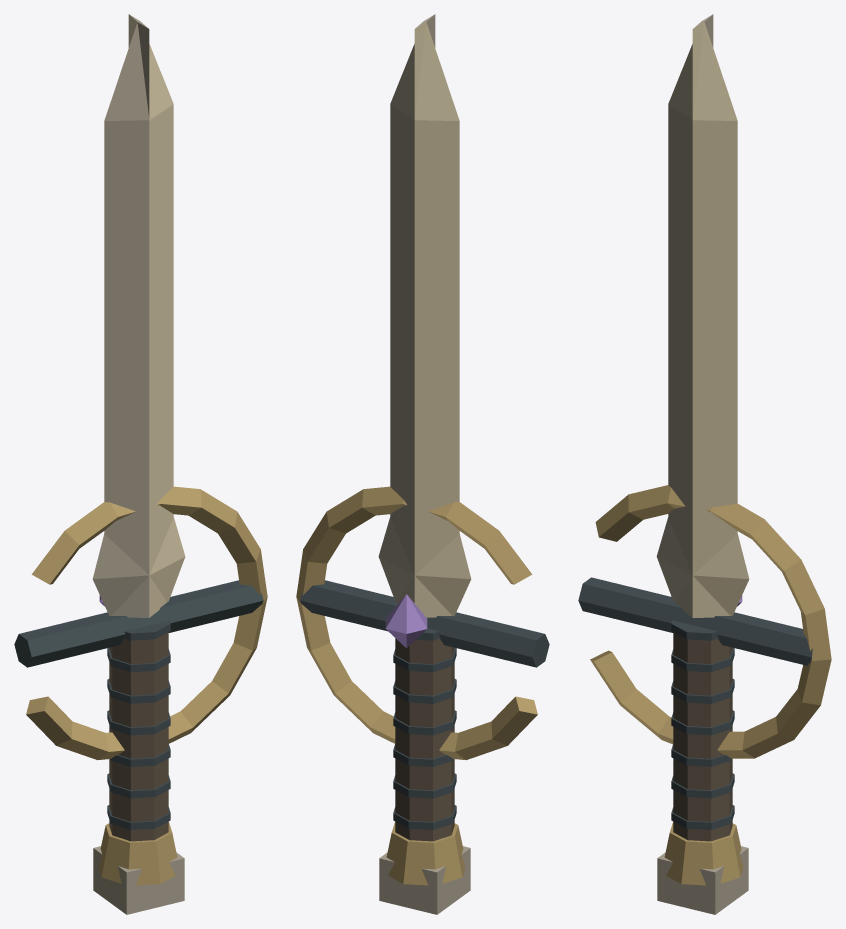
The model's file is Arsenal_CeremonyBreaker.fbx.
3 renders of one model, left to right at view 1: azimuth 30°, elevation 25°; view 2: azimuth 150°, elevation 25°; view 3: azimuth 330°, elevation 25°, orthographic.
Visible parts, largest first — view 1: Arsenal_CeremonyBreaker; view 2: Arsenal_CeremonyBreaker; view 3: Arsenal_CeremonyBreaker.
Part boxes in pixels (box(x1,y1,x2,y2)): Arsenal_CeremonyBreaker: box(14, 14, 267, 914); Arsenal_CeremonyBreaker: box(296, 14, 549, 914); Arsenal_CeremonyBreaker: box(578, 14, 831, 914).
Size of the model in its own units: 0.4218 by 1.44 by 0.1506.
